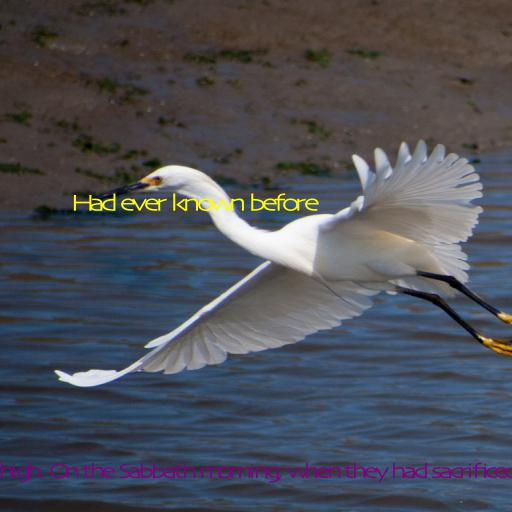Skia: (0, 462, 512, 483), (70, 193, 316, 212)
